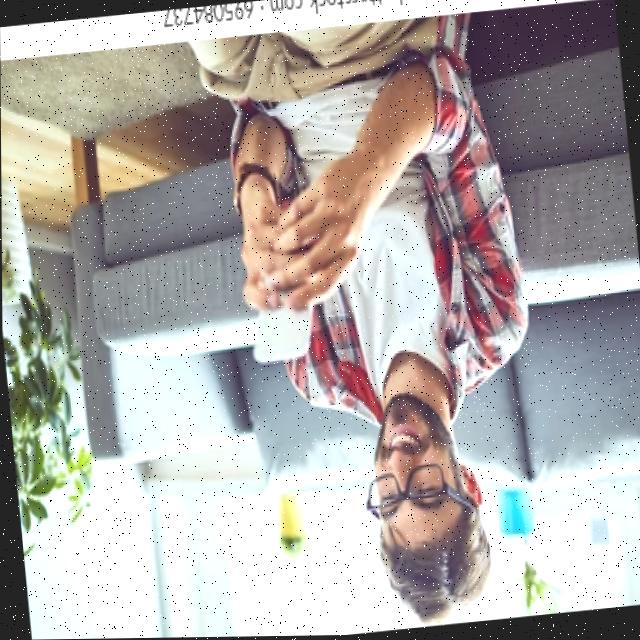smartphone-person: (211, 63, 563, 638)
